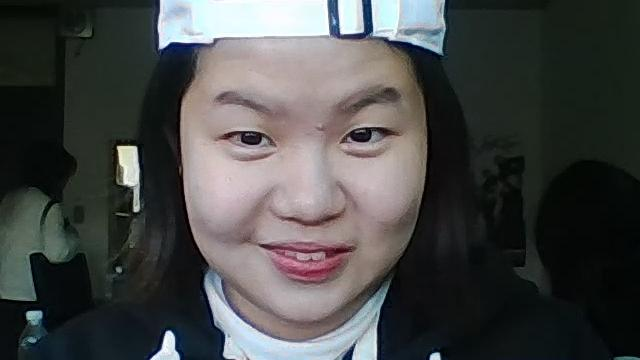eye: (350, 126, 372, 145), (243, 130, 261, 147)
iris: (229, 130, 277, 147), (339, 127, 389, 143)
